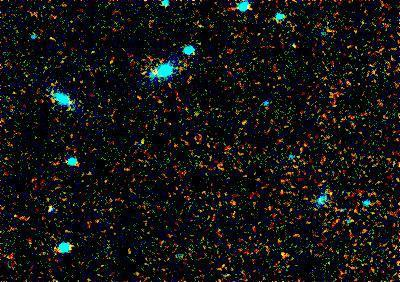star: (270, 242, 300, 272)
